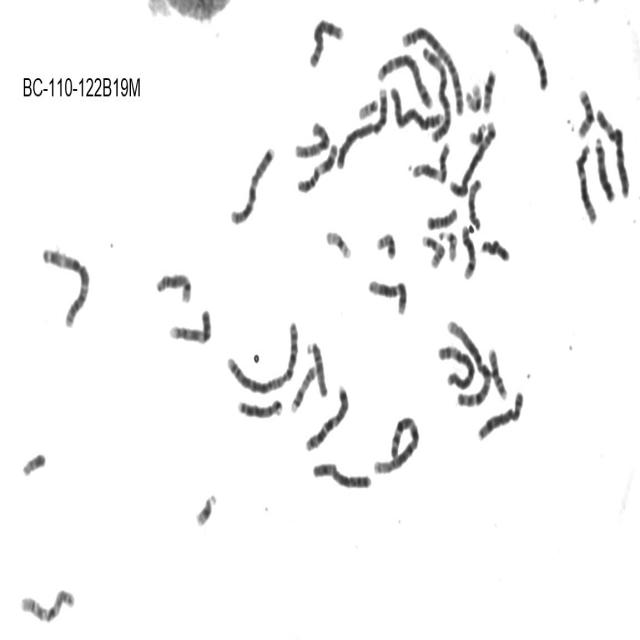A1: (445, 315, 494, 410), (370, 410, 422, 476)
A2: (399, 21, 466, 117), (223, 314, 300, 396)
A3: (38, 241, 92, 329), (418, 38, 454, 146)
B4: (334, 81, 389, 171), (388, 81, 444, 132)
B5: (446, 115, 498, 200), (374, 47, 435, 110)
C10: (17, 583, 76, 625), (292, 115, 332, 160)
C11: (294, 137, 339, 195), (408, 137, 452, 183)
C12: (573, 139, 599, 226), (365, 272, 409, 316)
C6: (593, 103, 632, 200), (434, 339, 476, 391)
C7: (226, 141, 276, 226), (302, 380, 351, 454)
C8: (474, 384, 525, 442), (306, 13, 345, 70)
C9: (510, 15, 550, 92), (166, 304, 213, 346)
D13: (592, 132, 617, 204), (234, 393, 284, 420)
D14: (153, 267, 193, 305), (458, 220, 477, 281)
D15: (304, 336, 329, 399), (465, 174, 484, 232)
E16: (485, 343, 510, 402), (574, 83, 596, 140)
E17: (288, 360, 318, 415), (419, 231, 446, 270)
E18: (478, 234, 511, 264), (424, 203, 459, 231)
F19: (323, 224, 353, 261), (462, 76, 483, 114)
F20: (479, 64, 498, 114), (373, 227, 397, 262)
G21: (192, 486, 218, 529), (466, 118, 487, 148)
G22: (19, 446, 48, 478), (355, 94, 380, 121)
X: (309, 456, 373, 492)
